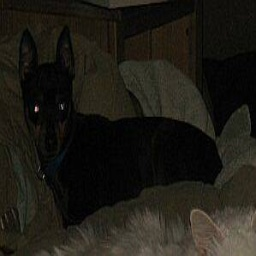dog: (14, 21, 224, 222)
